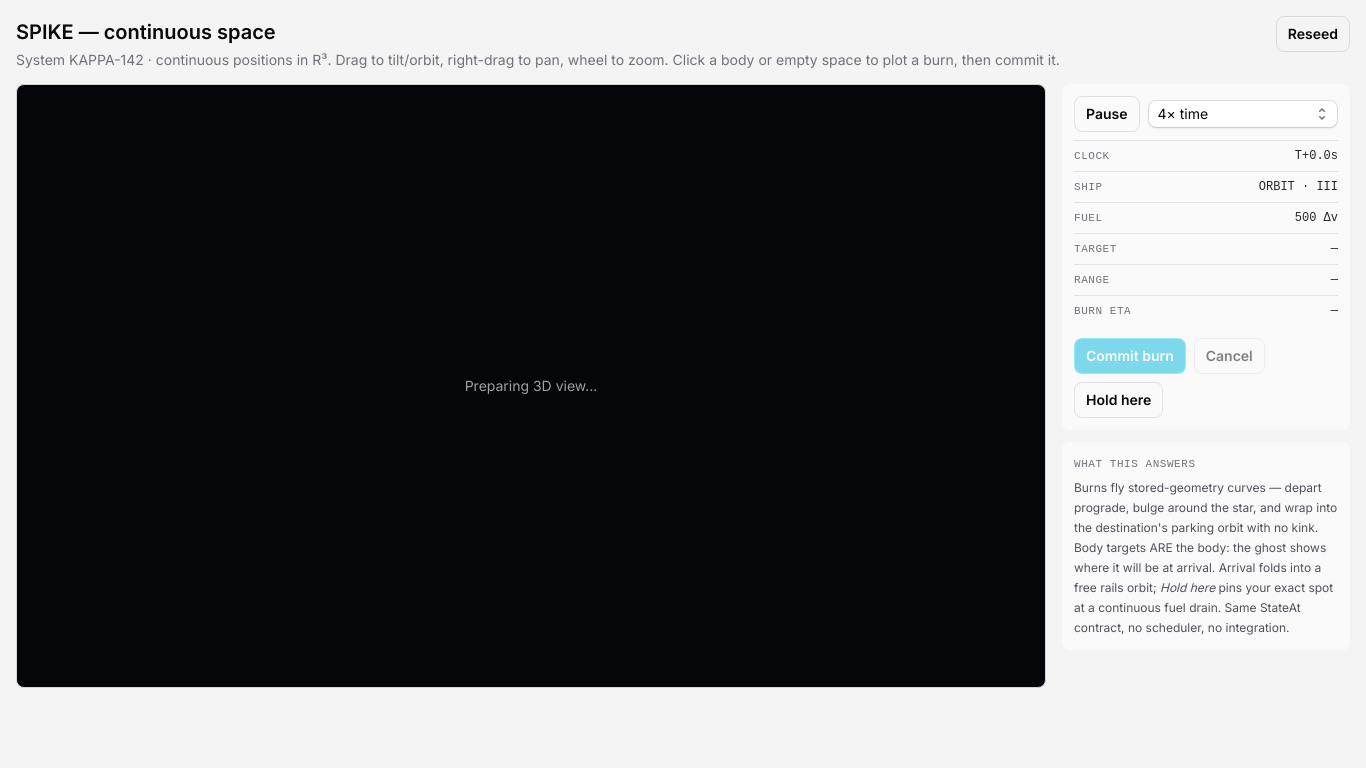
Test: continuous-space spike page › toggles between free rails orbit and fuel-burning station-keep
Click the button with test id "ctl-hold". click: x=1119, y=400
box: [1074,382,1163,418]
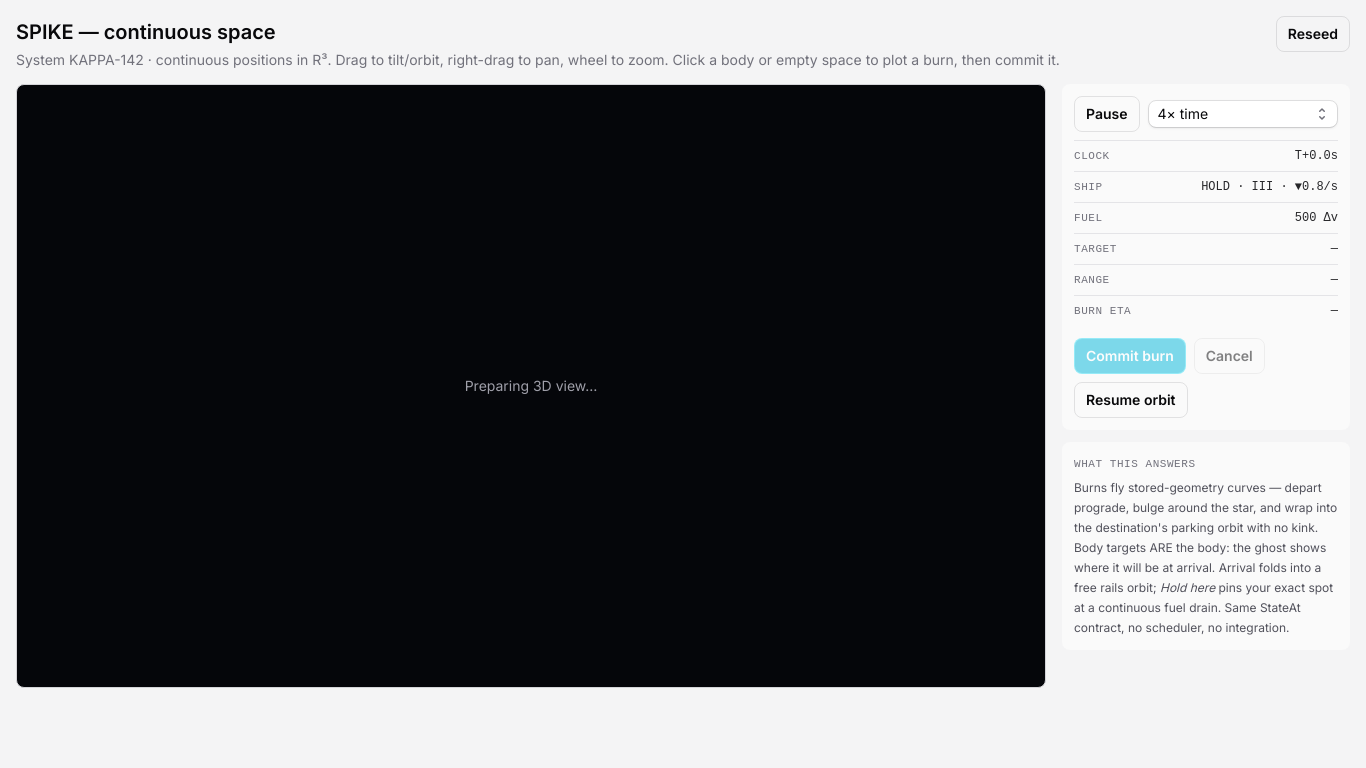
expect the text with test id "hud-status" shows "HOLD · III": met, box [1201,180,1338,194]
expect the button with test id "ctl-hold" reads "Resume orbit": met
Click the button with test id "ctl-hold". click: x=1131, y=400
box: [1074,382,1188,418]
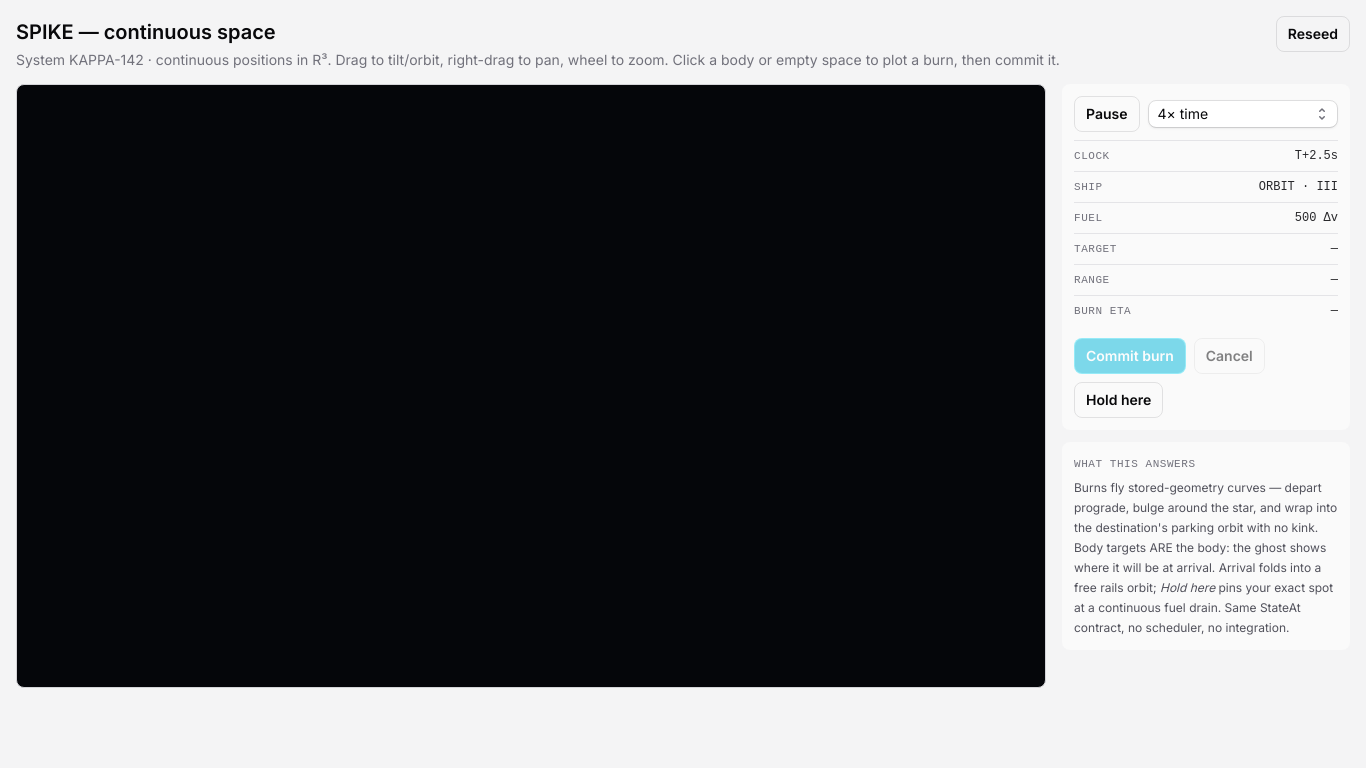
expect the text with test id "hud-status" reads "ORBIT · III": met, box [1259,180,1338,194]
